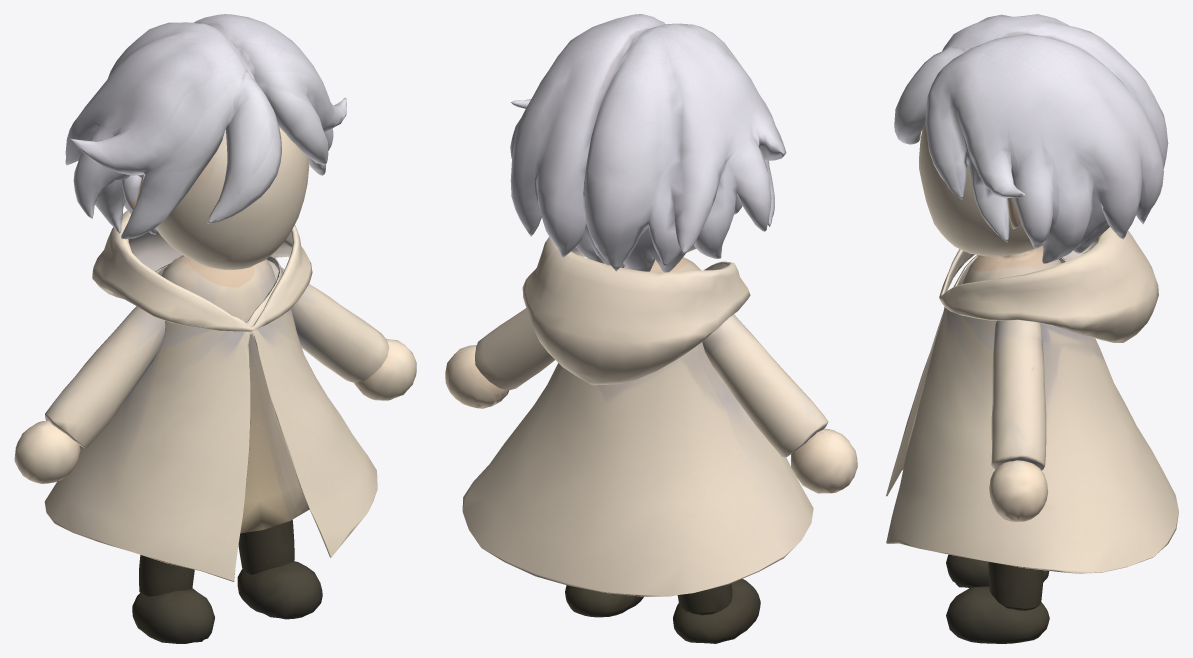
The model's file is stand.glb.
3 renders of one model, left to right at view 1: azimuth 30°, elevation 25°; view 2: azimuth 150°, elevation 25°; view 3: azimuth 270°, elevation 25°, orthographic. The views are drawn at different scales.
Bounding box in the file's own units: 0.7148 × 1 × 0.459.
Materials: 1 (1 with a texture image).
